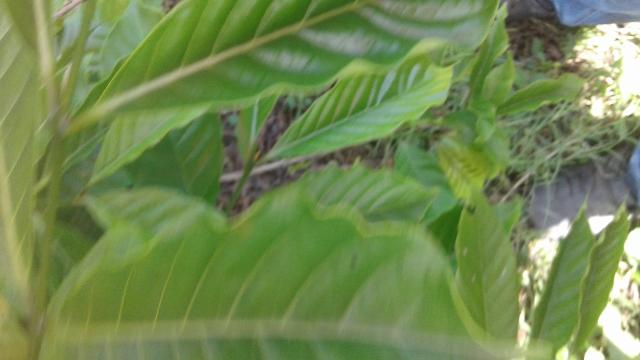healthy: (90, 0, 509, 118)
